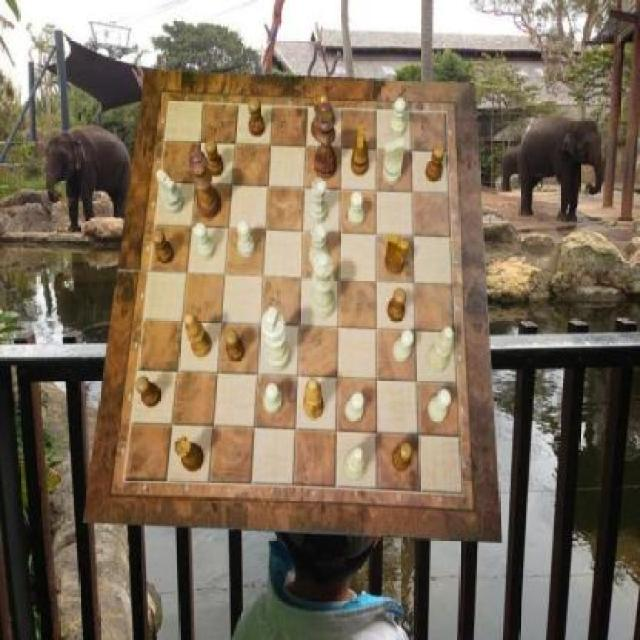bishop: (185, 312, 212, 358), (303, 377, 324, 419)
black-bishop: (314, 102, 337, 179)
black-king: (351, 125, 370, 177), (384, 234, 408, 275)
black-knight: (152, 229, 175, 264), (137, 377, 161, 408), (426, 145, 446, 182), (204, 140, 223, 178), (388, 289, 408, 323), (226, 331, 246, 363), (248, 98, 264, 137), (392, 442, 412, 472)
black-pawn: (190, 151, 222, 220)
black-queen: (174, 436, 204, 472), (311, 94, 330, 141)
black-rook: (429, 328, 454, 373), (345, 448, 367, 482)
white-bishop: (262, 308, 290, 372)
white-king: (157, 169, 185, 215), (383, 138, 405, 184)
white-knight: (194, 223, 216, 261), (428, 389, 450, 423), (237, 220, 255, 258), (394, 329, 414, 363), (390, 98, 406, 138), (344, 392, 364, 422), (348, 192, 364, 228), (265, 383, 282, 414)
white-pawn: (311, 254, 337, 320)
white-queen: (309, 223, 329, 269), (310, 178, 328, 224)
